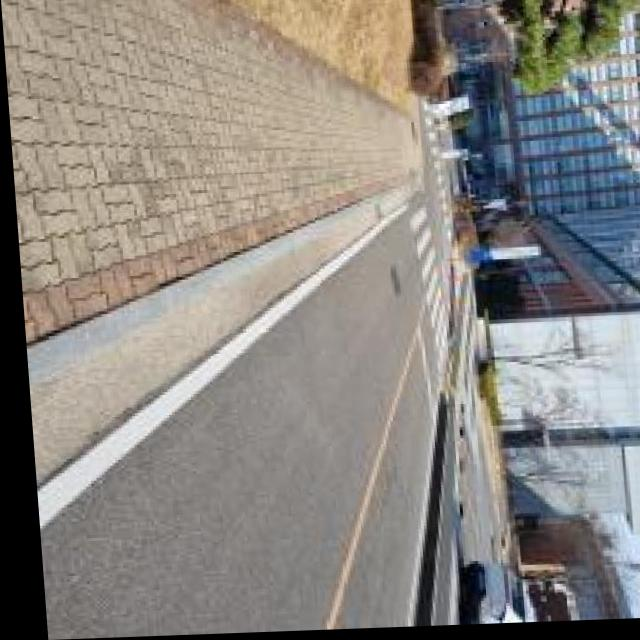zebra: (397, 203, 443, 404), (426, 96, 449, 239)
